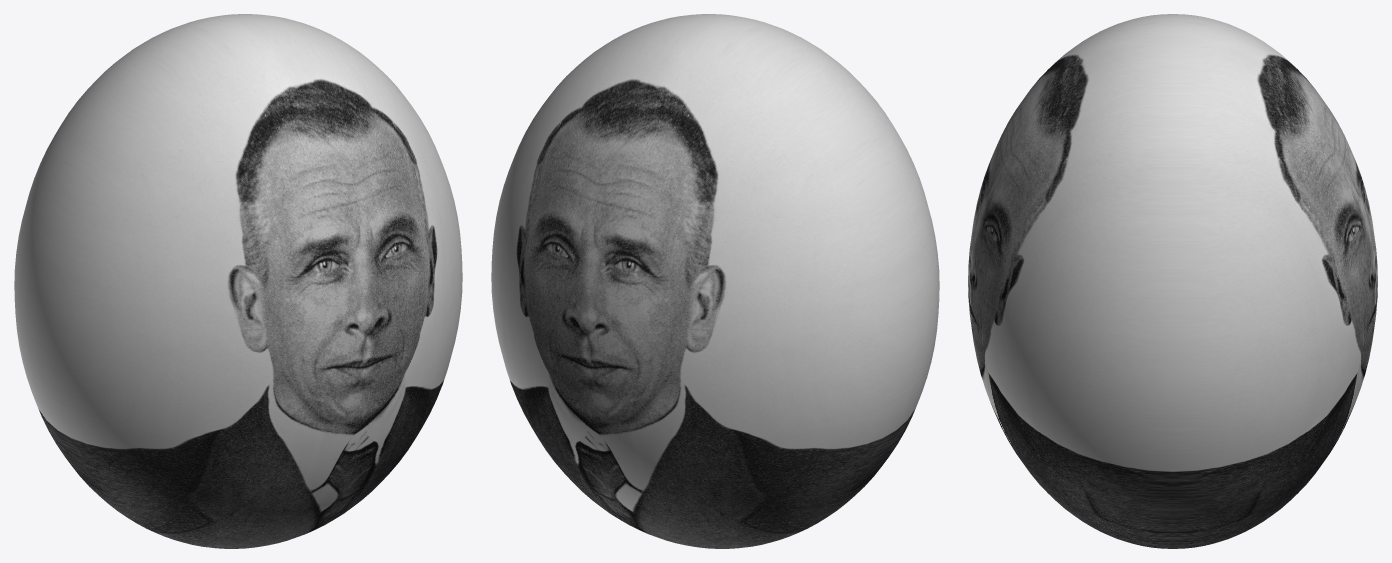
3 renders of one model, left to right at view 1: azimuth 30°, elevation 25°; view 2: azimuth 150°, elevation 25°; view 3: azimuth 270°, elevation 25°, orthographic.
Visible parts, largest first — view 1: head; view 2: head; view 3: head.
Part boxes in pixels (x1,y1,x2,y2): head: (14, 14, 462, 548); head: (491, 14, 939, 548); head: (968, 14, 1377, 548).
Bounding box in the file's own units: 1.65 × 2 × 1.49.
Materials: 1 (1 with a texture image).
